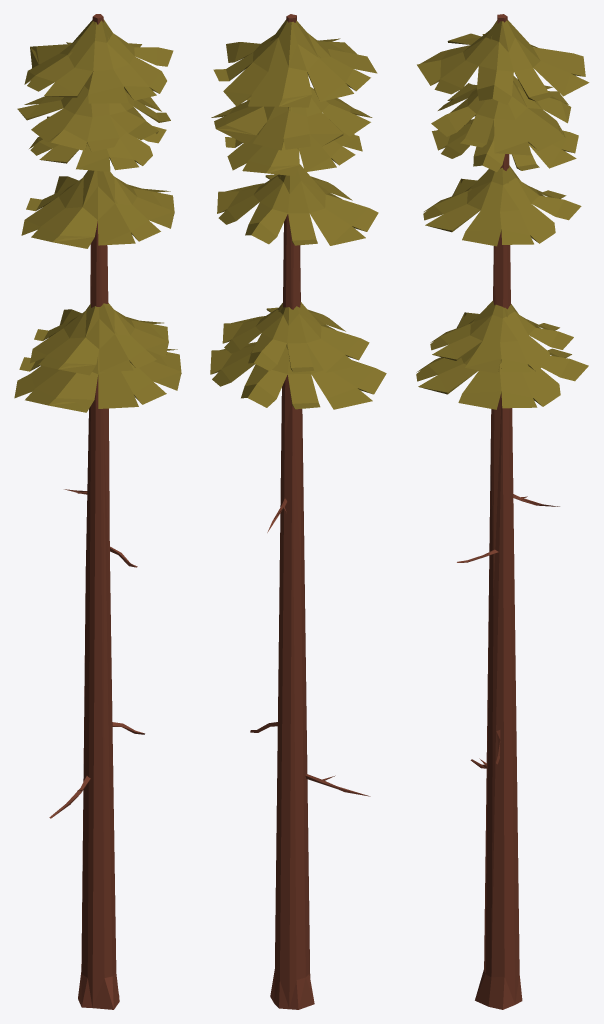
File: pine_healthy_type_8_LOD1.fbx
3 views of the same model, side by side, from view 1: azimuth 30°, elevation 25°; view 2: azimuth 150°, elevation 25°; view 3: azimuth 270°, elevation 25° (orthographic).
Visible parts, largest first — view 1: pine_trunk.016; view 2: pine_trunk.016; view 3: pine_trunk.016.
Part boxes in pixels (<box>): pine_trunk.016: <box>14,14,181,1009</box>; pine_trunk.016: <box>210,14,386,1009</box>; pine_trunk.016: <box>416,14,589,1009</box>.
Size of the model in its own units: 497 by 2872 by 462.
